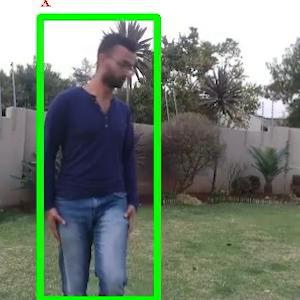follow: (40, 35, 144, 298)
